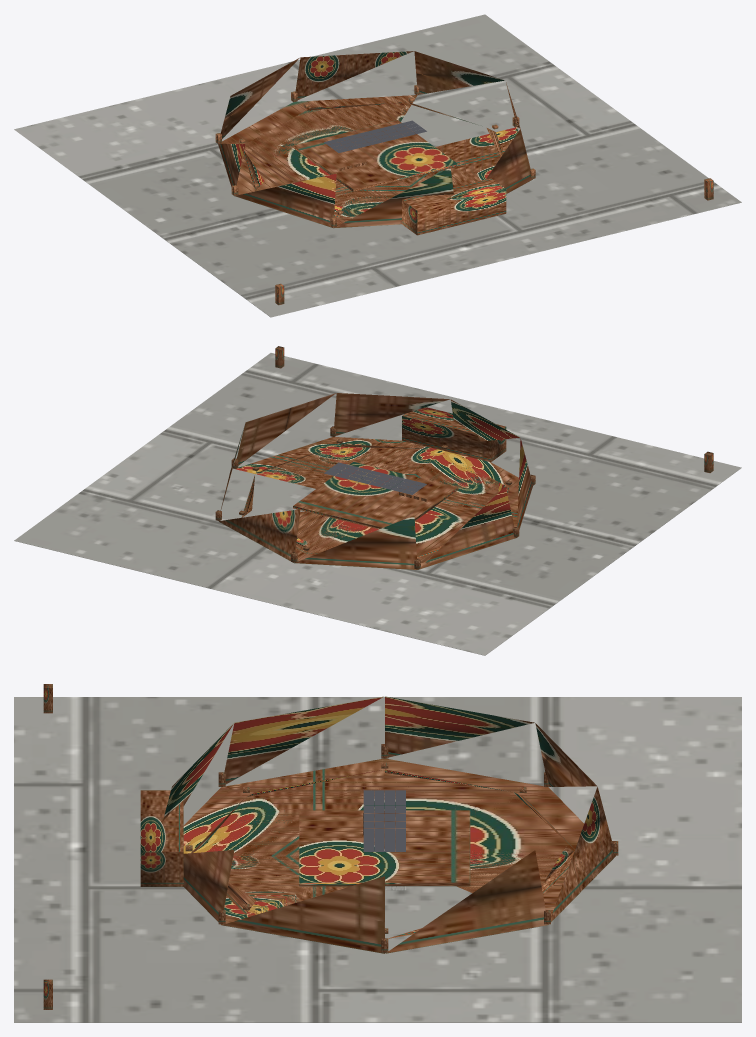
3 views of the same model, one above another, from view 1: azimuth 30°, elevation 25°; view 2: azimuth 150°, elevation 25°; view 3: azimuth 270°, elevation 25° (orthographic). The views are drawn at different scales.
Visible parts, largest first — view 1: 11710_01_05555_021_01_L2__base, 11710_01_05555_021_02_L2__body, 11710_01_05555_021_03_L2__roof; view 2: 11710_01_05555_021_01_L2__base, 11710_01_05555_021_02_L2__body, 11710_01_05555_021_03_L2__roof; view 3: 11710_01_05555_021_01_L2__base, 11710_01_05555_021_02_L2__body, 11710_01_05555_021_03_L2__roof, 11710_01_05555_021_06_L2__green.
Boxes of the visible parts, x1=… form: 11710_01_05555_021_01_L2__base: x1=14, y1=14, x2=741, y2=317; 11710_01_05555_021_02_L2__body: x1=215, y1=51, x2=535, y2=235; 11710_01_05555_021_03_L2__roof: x1=324, y1=120, x2=426, y2=152; 11710_01_05555_021_01_L2__base: x1=14, y1=353, x2=741, y2=655; 11710_01_05555_021_02_L2__body: x1=215, y1=393, x2=535, y2=569; 11710_01_05555_021_03_L2__roof: x1=324, y1=462, x2=426, y2=494; 11710_01_05555_021_01_L2__base: x1=14, y1=697, x2=741, y2=1022; 11710_01_05555_021_02_L2__body: x1=140, y1=696, x2=618, y2=953; 11710_01_05555_021_03_L2__roof: x1=363, y1=790, x2=405, y2=851; 11710_01_05555_021_06_L2__green: x1=43, y1=684, x2=52, y2=1009.
Size of the model in its own units: 180 by 19 by 170.
5 materials, 5 textured.
